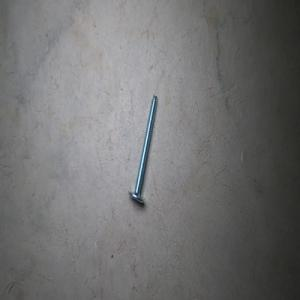Bolt: (127, 93, 157, 204)
